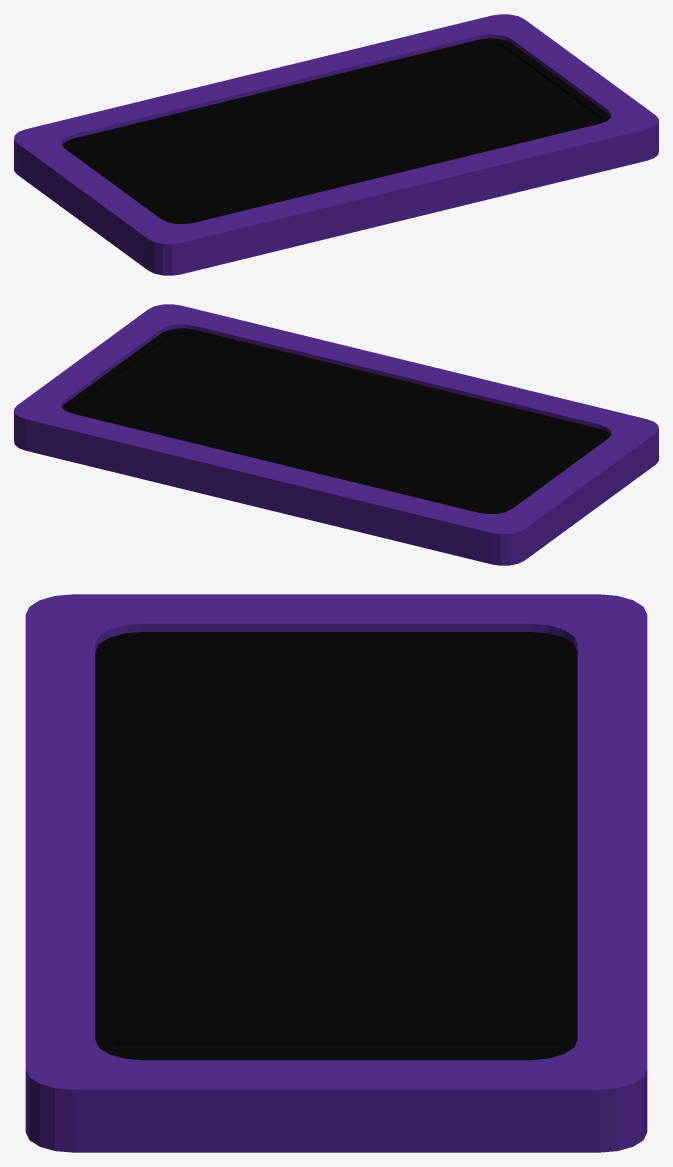
The model's file is TelefonoVioleta.fbx.
The picture shows the model from 3 angles, top to bottom: view 1: azimuth 30°, elevation 25°; view 2: azimuth 150°, elevation 25°; view 3: azimuth 270°, elevation 25°; orthographic projection. The views are drawn at different scales.
Visible parts, largest first — view 1: Cube; view 2: Cube; view 3: Cube.
Part boxes in pixels (bbox=[...]): Cube: bbox=[14, 14, 658, 275]; Cube: bbox=[14, 304, 658, 565]; Cube: bbox=[25, 594, 647, 1152].
Size of the model in its own units: 340 by 20.17 by 180.
